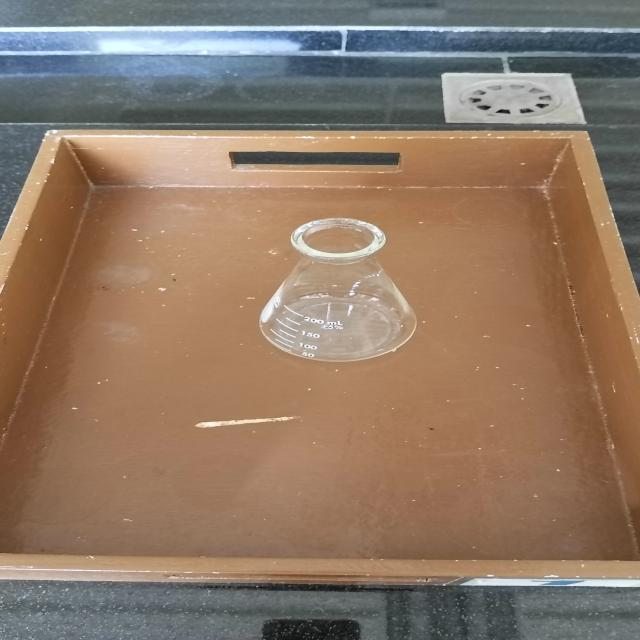erlenmeyer_flask: (240, 216, 434, 366)
